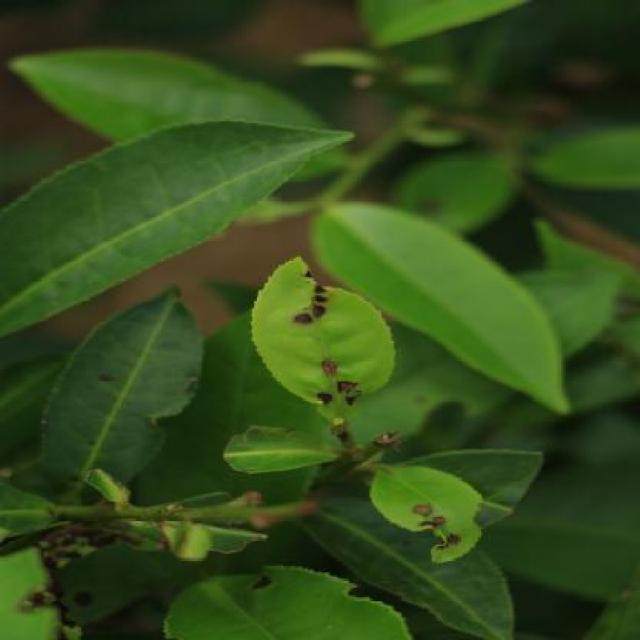Tea Mosquito bug infested leaf: (238, 262, 402, 412), (357, 452, 505, 566)
